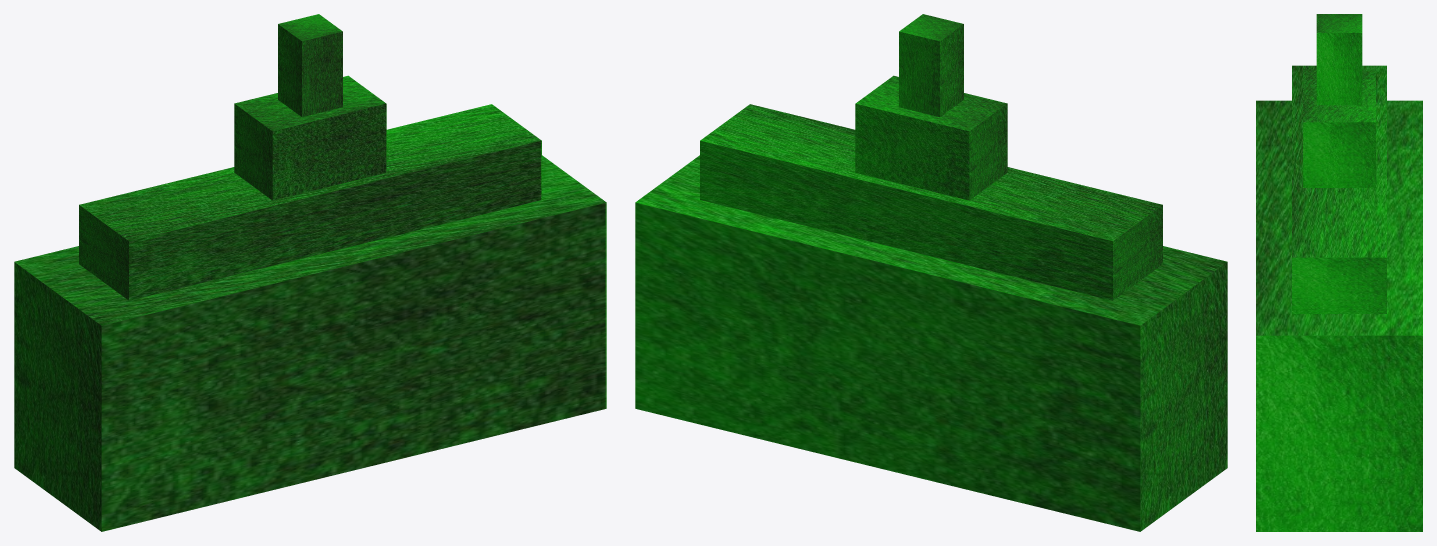
Rendered from Laser_Cannon.obj.
3 views of the same model, side by side, from view 1: azimuth 30°, elevation 25°; view 2: azimuth 150°, elevation 25°; view 3: azimuth 270°, elevation 25° (orthographic). The views are drawn at different scales.
Visible parts, largest first — view 1: Cube, Würfel, Würfel.001, Würfel.002; view 2: Cube, Würfel, Würfel.001, Würfel.002; view 3: Cube, Würfel, Würfel.001, Würfel.002.
Part boxes in pixels (x1,y1,x2,y2): Cube: (14, 155, 606, 531); Würfel: (79, 104, 541, 300); Würfel.001: (234, 75, 386, 200); Würfel.002: (278, 14, 342, 117); Cube: (635, 155, 1227, 531); Würfel: (700, 104, 1162, 300); Würfel.001: (855, 75, 1007, 200); Würfel.002: (899, 14, 963, 117); Cube: (1256, 100, 1422, 531); Würfel: (1292, 65, 1386, 313); Würfel.001: (1303, 69, 1375, 187); Würfel.002: (1316, 14, 1362, 105).
Size of the model in its own units: 2 by 1.55 by 0.6.
2 materials, 2 textured.
